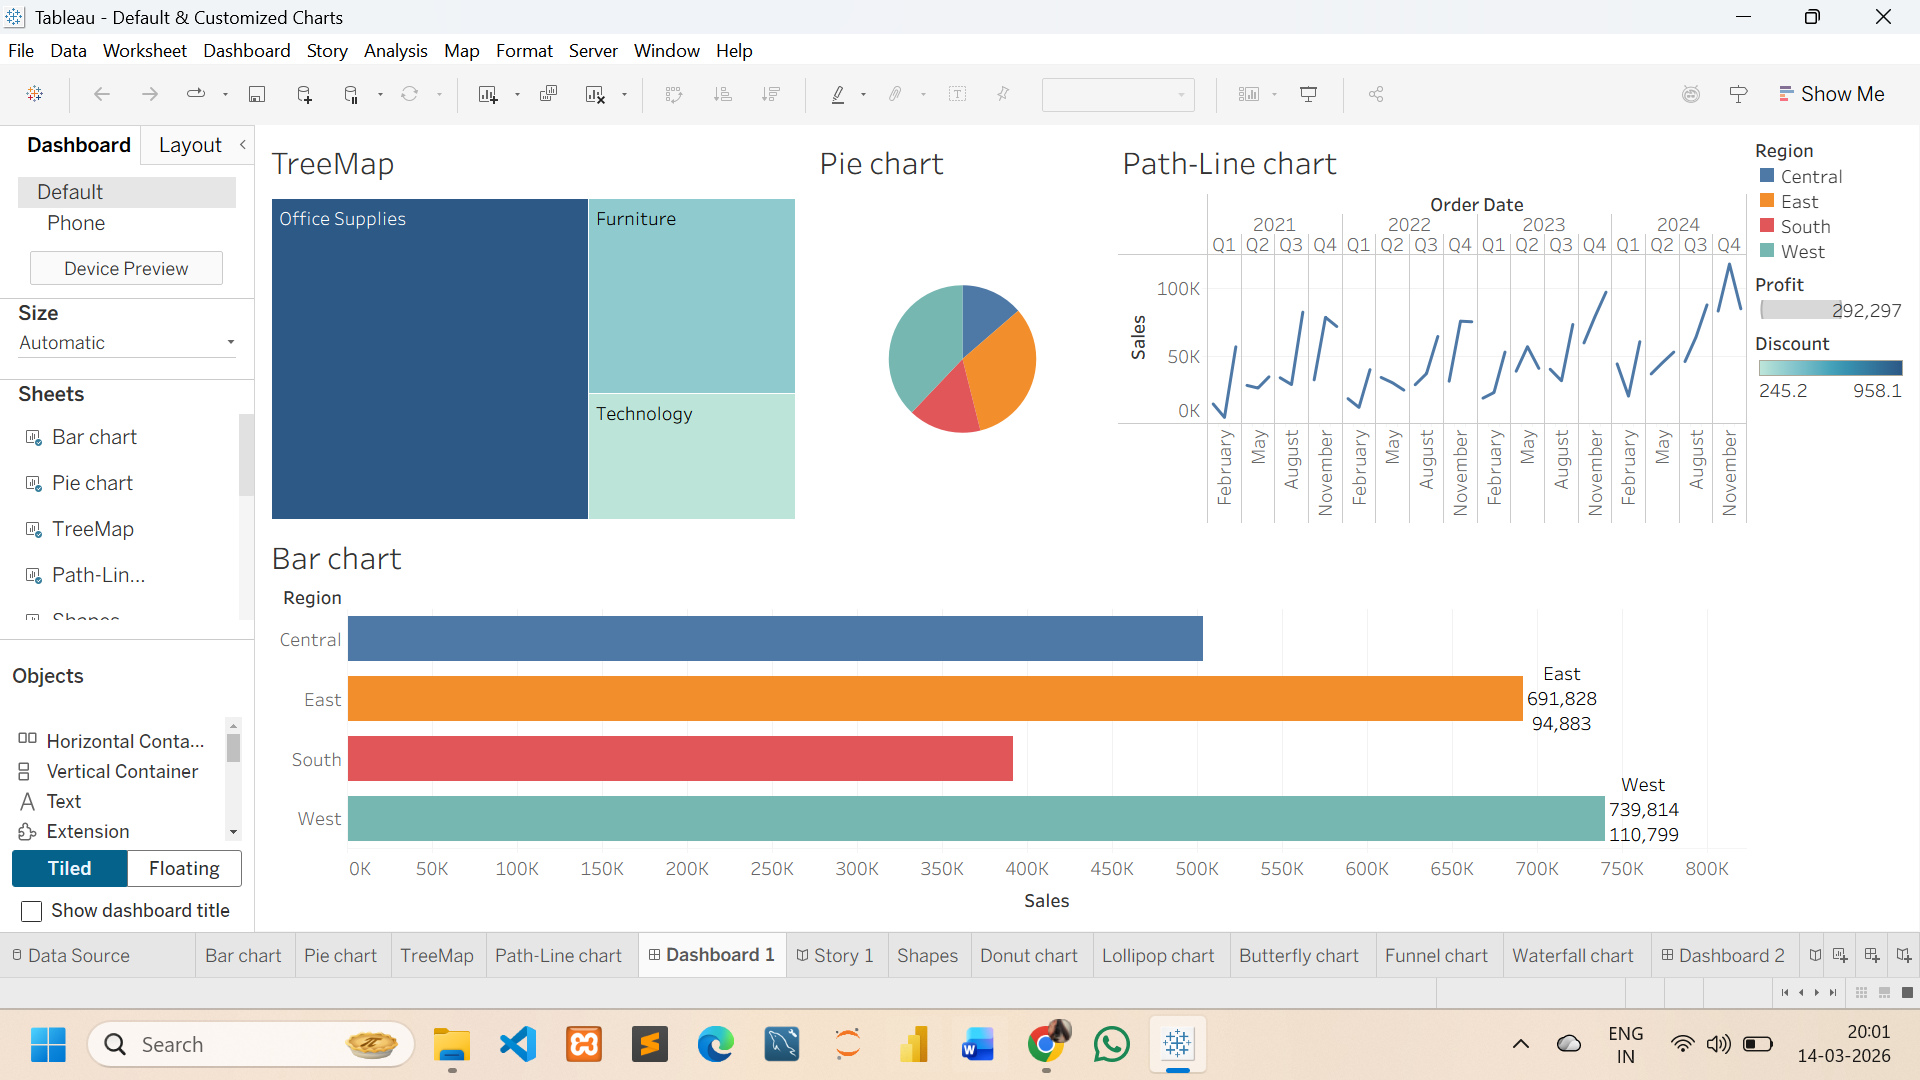

Layout of this report page (visuals, bound fields, positions):
{"tool":"tableau","page":{"name":"Dashboard 1","canvas":[1000,1000],"units":"permille","ordinal":0},"visuals":[{"type":"worksheet","title":"TreeMap","mark":"Automatic","box":[4.8,9.9,329.4,490.1]},{"type":"worksheet","title":"Pie chart","mark":"Pie","box":[334.2,9.9,182.2,490.1]},{"type":"worksheet","title":"Path-Line chart","mark":"Automatic","rows":["Sales"],"cols":["Order Date","Order Date","Order Date"],"box":[516.4,9.9,382.6,490.1]},{"type":"legend","title":"Bar chart","param":"[federated.0d6q7ib0e3wx5g14k2cjd0qth7mv].[none:Region:nk]","box":[899,9.9,96.2,166.3]},{"type":"legend","title":"Pie chart","param":"[federated.0d6q7ib0e3wx5g14k2cjd0qth7mv].[sum:Profit:qk]","box":[899,176.2,96.2,73.2]},{"type":"legend","title":"TreeMap","param":"[federated.0d6q7ib0e3wx5g14k2cjd0qth7mv].[sum:Discount:qk]","box":[899,249.4,96.2,100.5]},{"type":"worksheet","title":"Bar chart","mark":"Automatic","rows":["Region"],"cols":["Sales"],"box":[4.8,500,894.2,490.1]}]}

Visuals, with their boxes on the dashboard's canvas, which has no fixed pixel size, in thousandths of its width and height (x1, y1, x2, y2). These are canvas units, not pixel positions in the 1920x1080 screenshot, which may show the page scaled, cropped or inside an application window:
"TreeMap" worksheet: {"left": 5, "top": 10, "right": 334, "bottom": 500}
"Pie chart" worksheet (Pie marks): {"left": 334, "top": 10, "right": 516, "bottom": 500}
"Path-Line chart" worksheet: {"left": 516, "top": 10, "right": 899, "bottom": 500}
"Bar chart" legend: {"left": 899, "top": 10, "right": 995, "bottom": 176}
"Pie chart" legend: {"left": 899, "top": 176, "right": 995, "bottom": 249}
"TreeMap" legend: {"left": 899, "top": 249, "right": 995, "bottom": 350}
"Bar chart" worksheet: {"left": 5, "top": 500, "right": 899, "bottom": 990}
